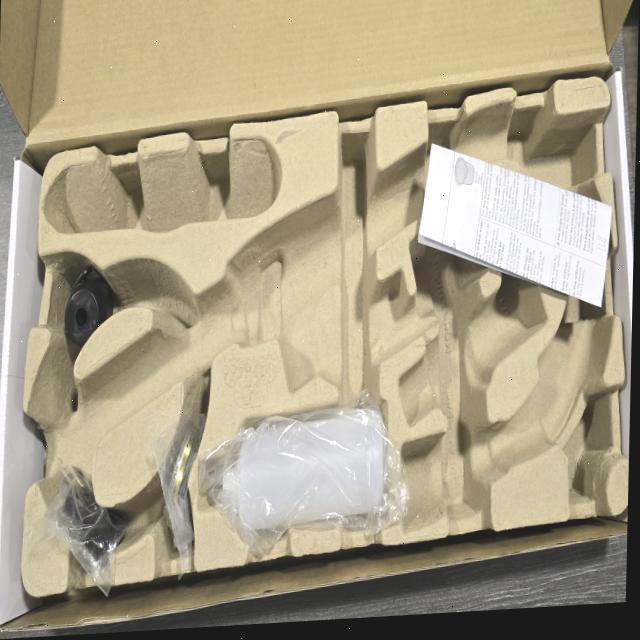1m: (25, 109, 608, 533)
2m: (400, 195, 546, 425)
3: (205, 400, 385, 530)
4m: (42, 137, 280, 233)
5: (63, 265, 114, 348)
6: (153, 410, 202, 580)
7: (26, 461, 130, 595)
8: (416, 143, 611, 311)
